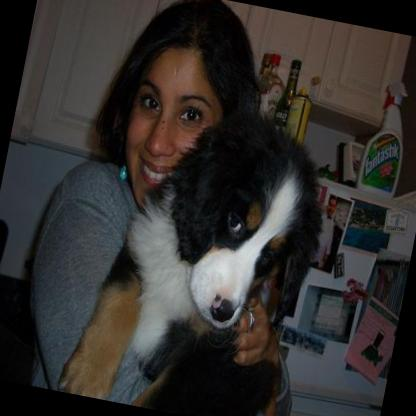Bernese_mountain_dog: (53, 83, 337, 416)
